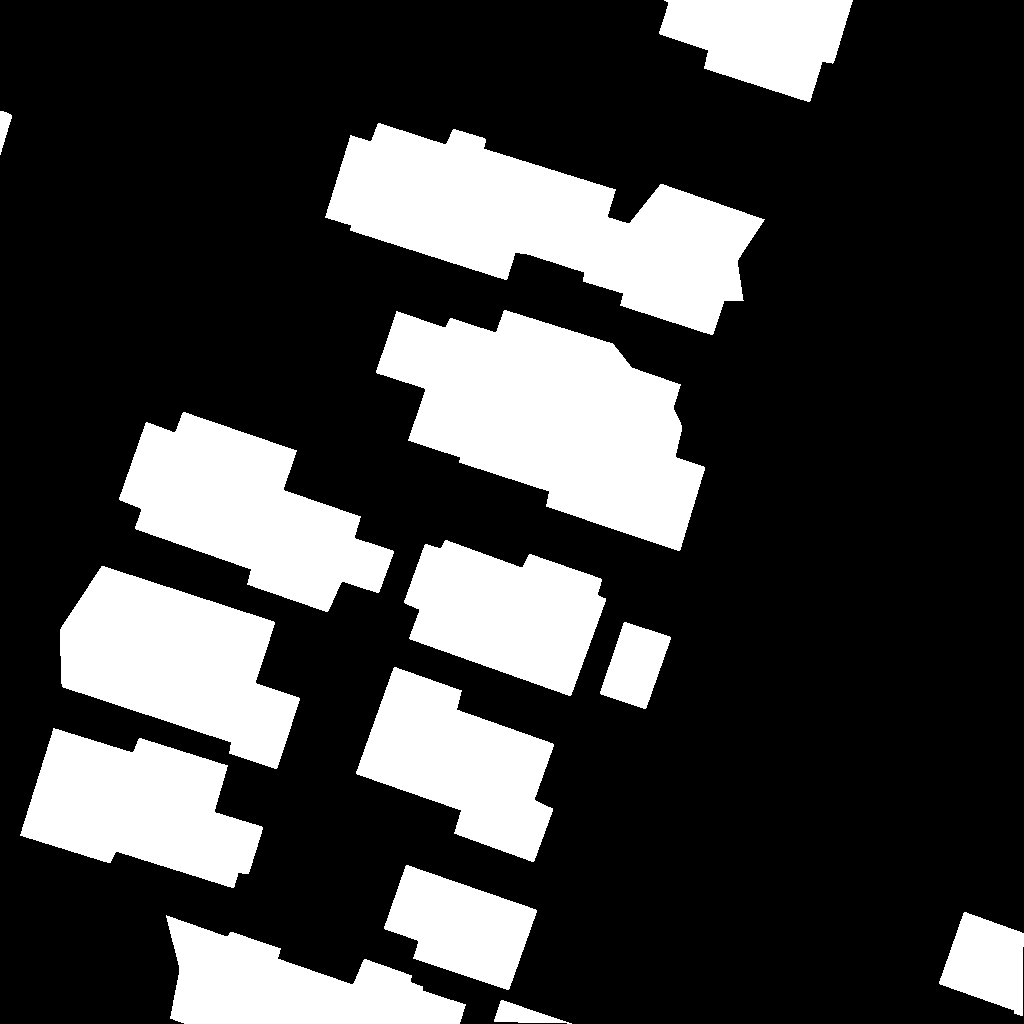building: (325, 123, 766, 336), (376, 310, 706, 552), (119, 412, 395, 613), (60, 566, 301, 770), (20, 728, 264, 889), (356, 667, 555, 863), (166, 915, 467, 1024), (404, 540, 607, 697), (659, 0, 854, 103), (384, 865, 538, 991), (939, 912, 1024, 1017), (600, 622, 672, 710), (494, 1000, 573, 1024), (0, 111, 13, 157)
